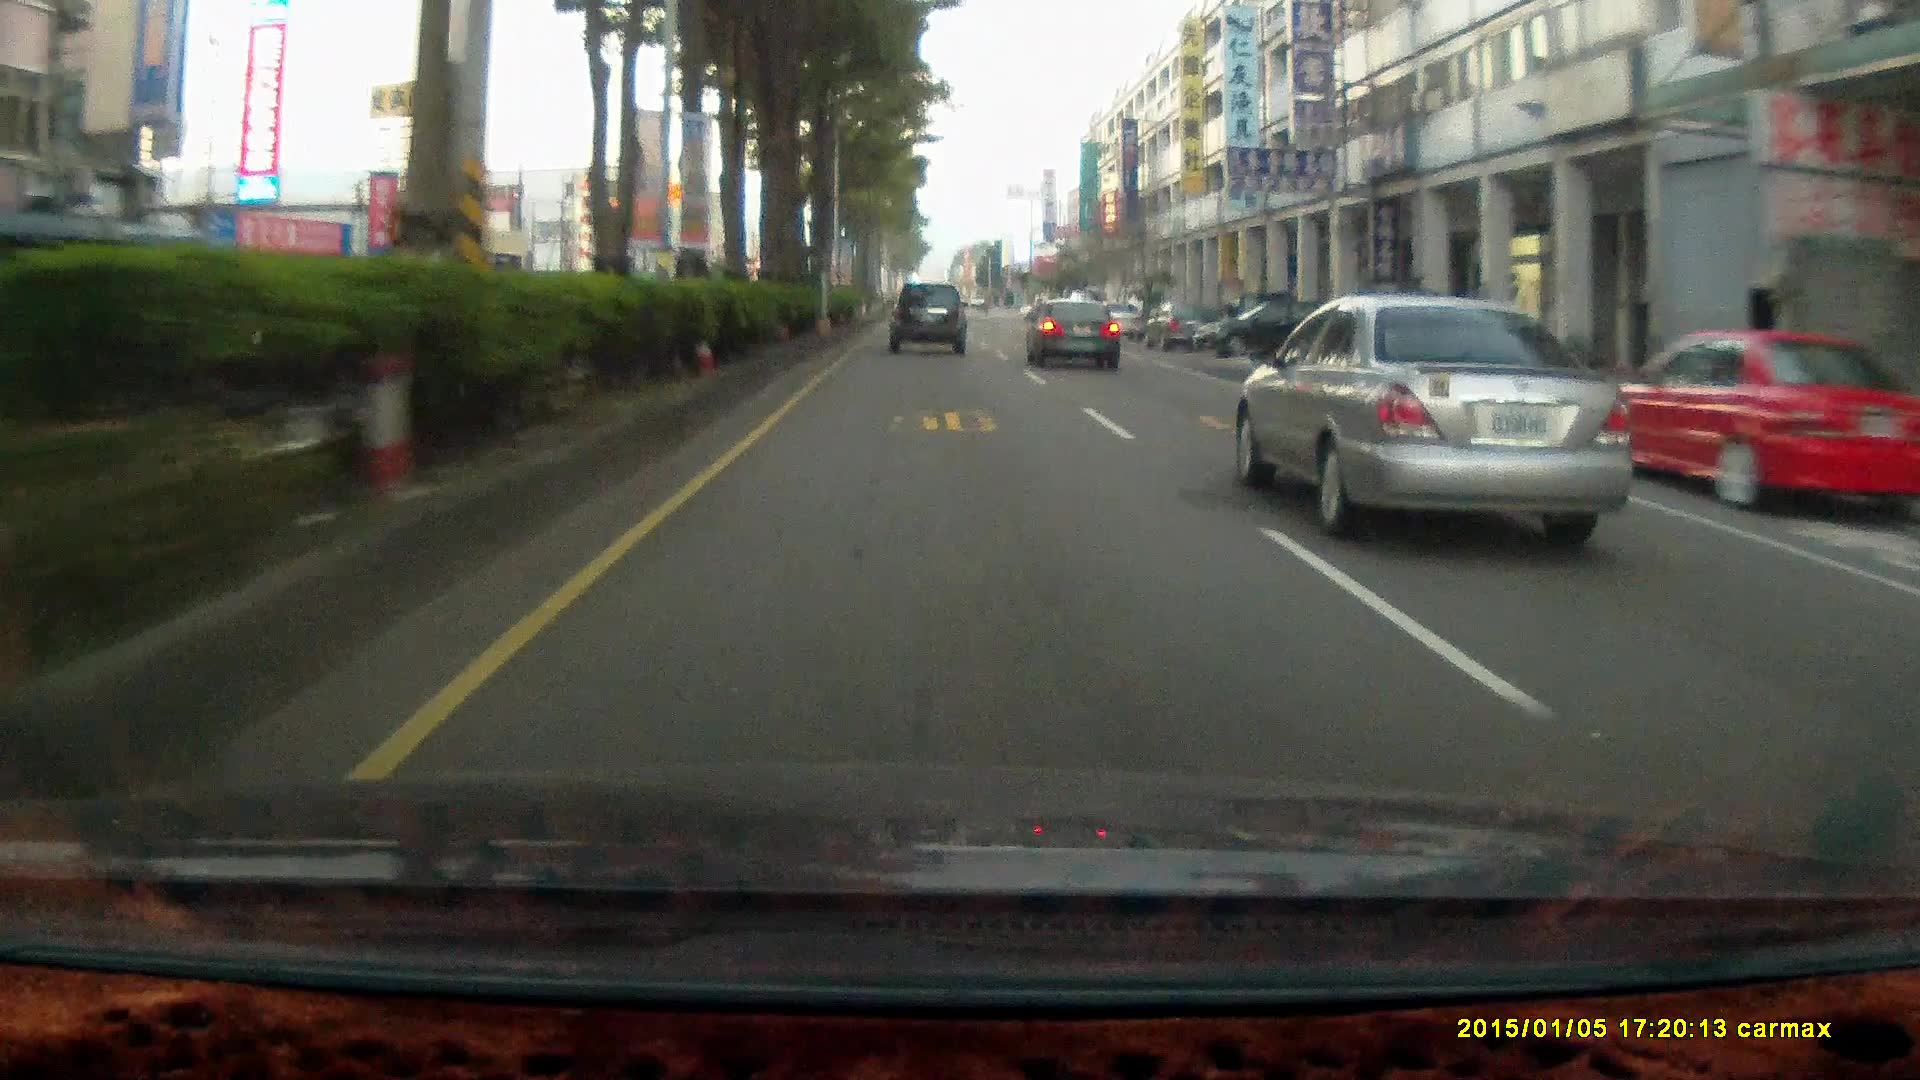vehicle: (1226, 286, 1654, 539), (1588, 326, 1920, 516), (1605, 326, 1900, 520), (1191, 297, 1348, 357), (1026, 297, 1124, 371), (1025, 295, 1120, 371), (887, 281, 971, 357), (886, 281, 969, 352), (1139, 301, 1215, 351)
